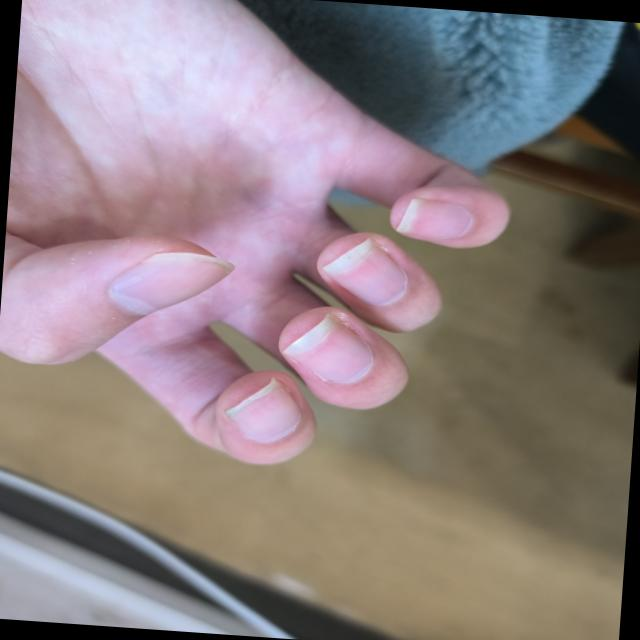Nail: (109, 251, 235, 314), (281, 311, 374, 383), (321, 237, 407, 305), (224, 377, 301, 442), (396, 195, 472, 237)
